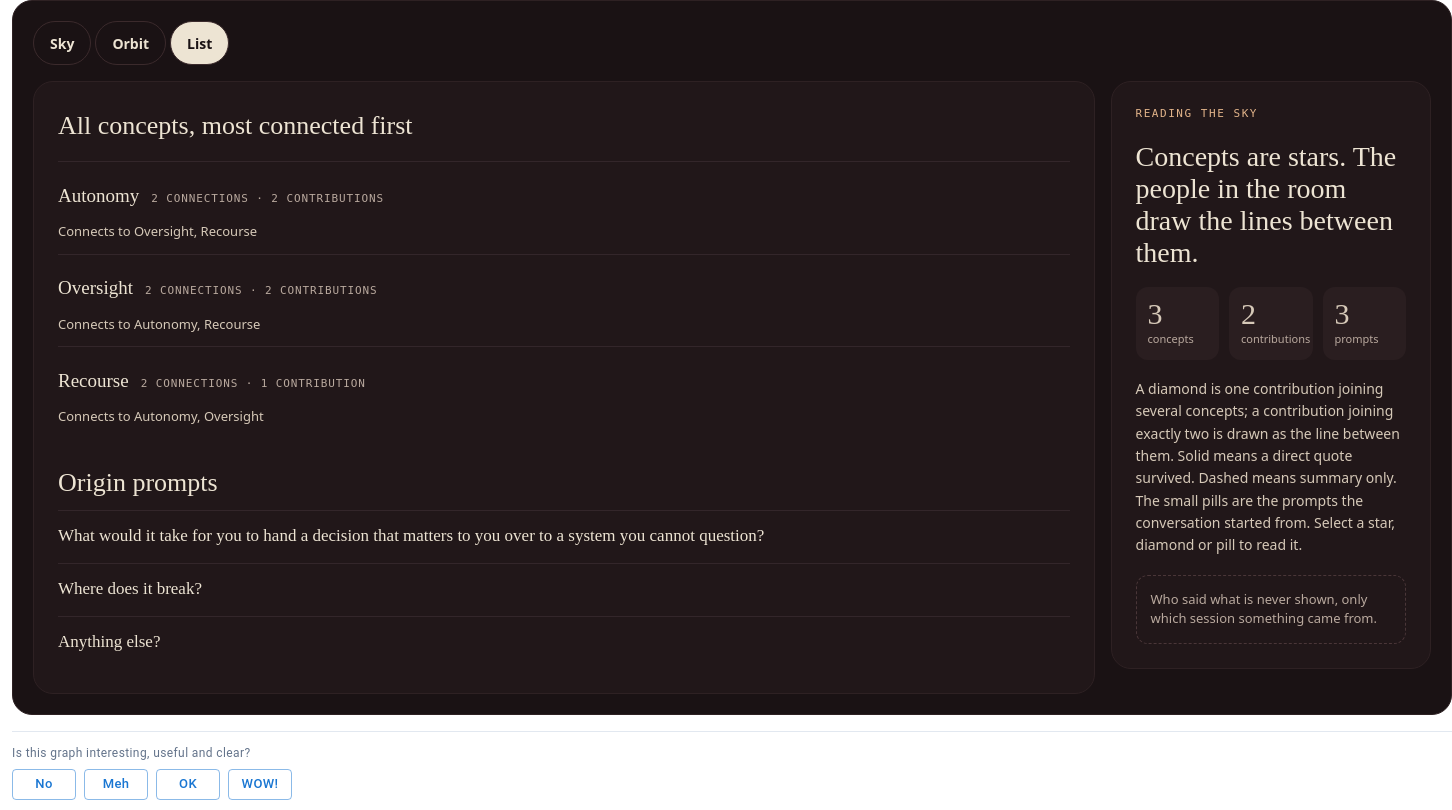
Test case: List › marks the selected prompt as pressed and opens it in the panel
The width and height of the screenshot is (1452, 810).
Click the button named "What would it take for you to hand a decision that matters to you over to a system you cannot question?": (411, 536) x1=58 y1=514 x2=764 y2=558
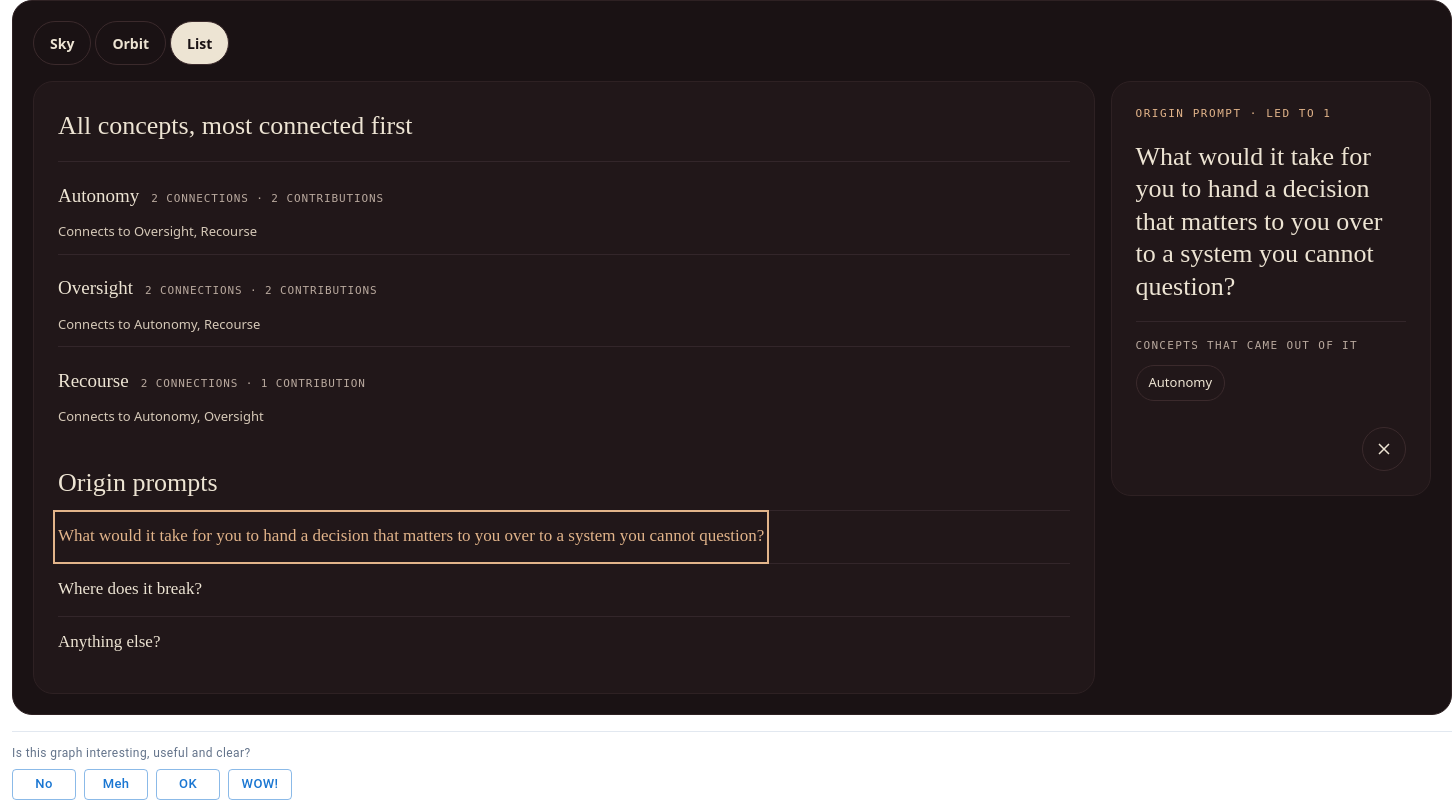
Now the heading named "What would it take for you to hand a decision that matters to you over to a system you cannot question?" is shown, box x1=1136 y1=140 x2=1406 y2=303
